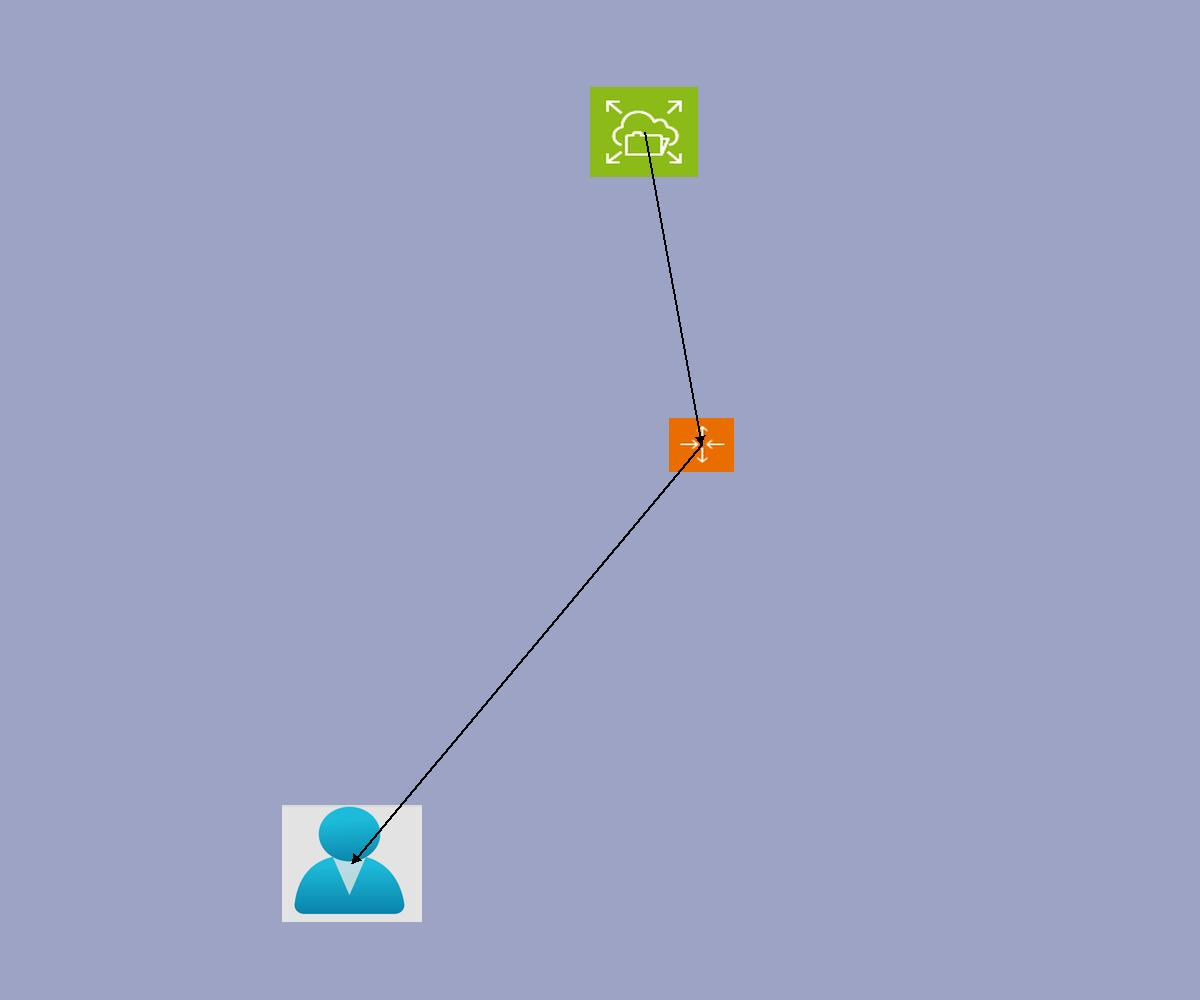AWS-EFS: (590, 87, 698, 177)
AWS-Scaling-group: (669, 418, 734, 472)
Azure_users: (282, 805, 422, 922)
